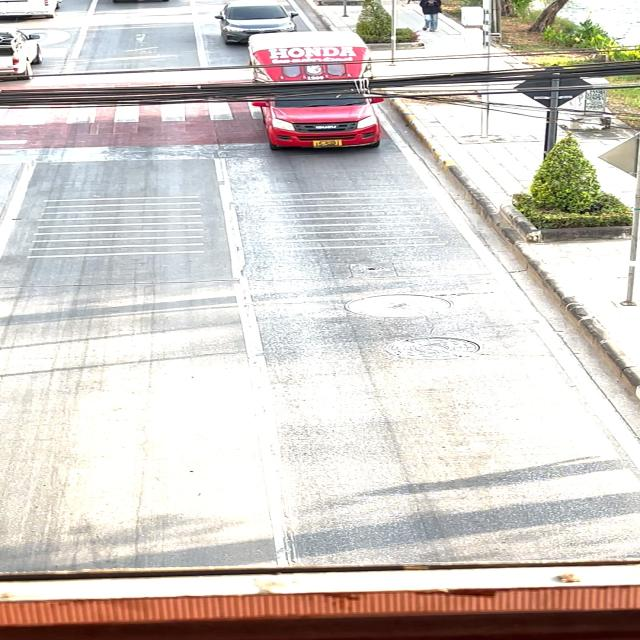car: (229, 24, 385, 159), (196, 0, 305, 47)
